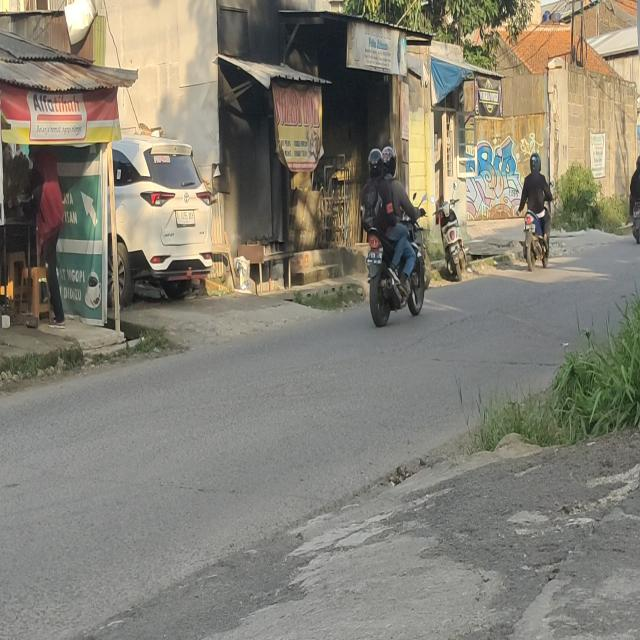helmet: (368, 149, 384, 177), (383, 146, 397, 178), (530, 153, 541, 173)
